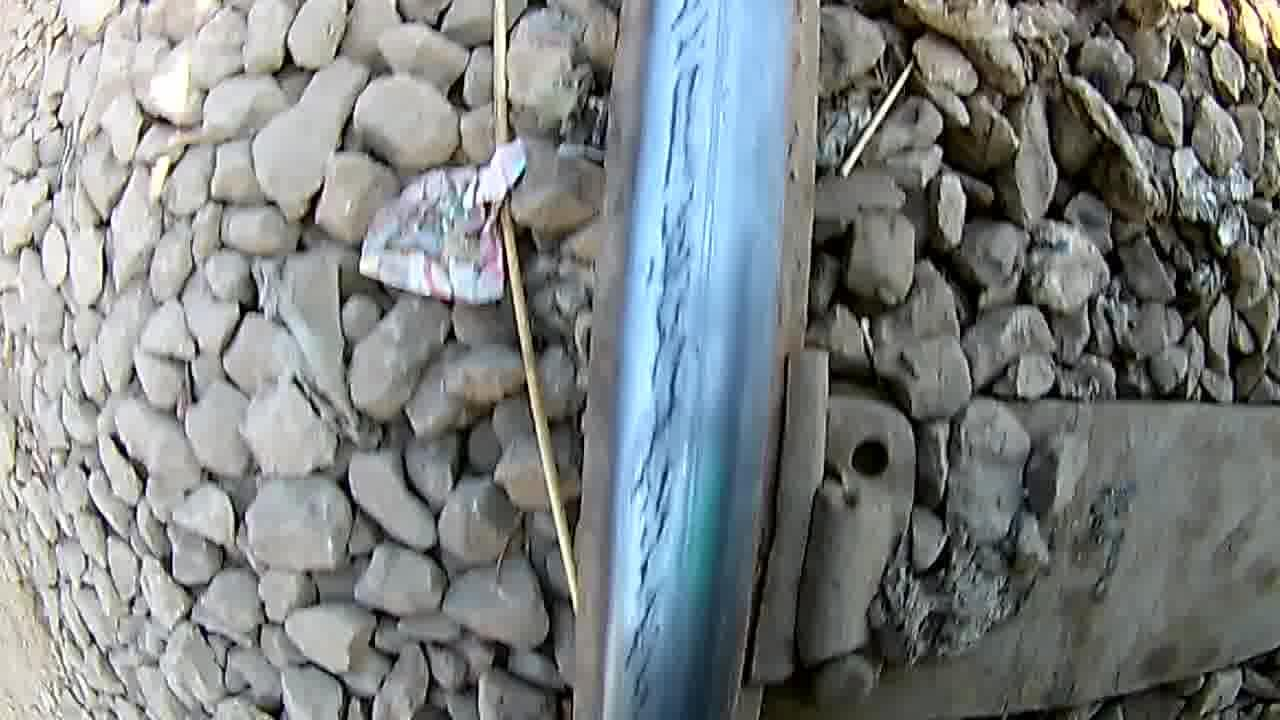normal_track: (617, 2, 716, 720)
